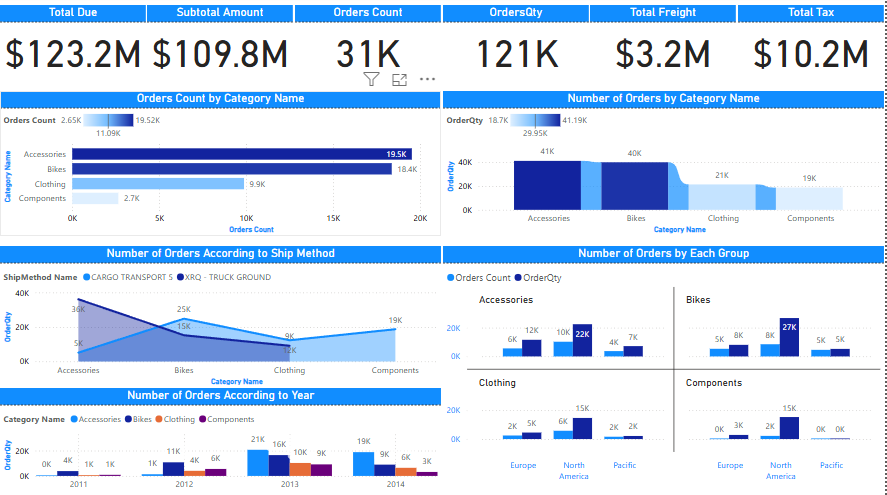

What the dashboard file says about the page in this screenshot:
{"tool":"powerbi","page":{"name":"Sales","canvas":[1280,720],"ordinal":0},"visuals":[{"type":"card","title":"Total Due","fields":{"Values":["Dax Measures.Total Due"]},"box":[3.9,12.6,210.1,100.2],"z":0},{"type":"card","title":"Subtotal Amount","fields":{"Values":["Dax Measures.SubTotal Amount"]},"box":[216.5,12.6,210.1,100.2],"z":1000},{"type":"card","title":"Total Freight","fields":{"Values":["Dax Measures.Total Freight"]},"box":[854.4,12.6,210.1,100.2],"z":2000},{"type":"card","title":"Total Tax","fields":{"Values":["Dax Measures.Total Tax"]},"box":[1067,12.6,210.1,100.2],"z":3000},{"type":"card","title":"OrdersQty","fields":{"Values":["Dax Measures.Order Details"]},"box":[641.8,12.6,210.1,100.2],"z":4000},{"type":"card","title":"Orders Count","fields":{"Values":["Dax Measures.Orders Count"]},"box":[429.1,12.6,210.1,100.2],"z":5000},{"type":"clusteredBarChart","fields":{"Category":["Product Category.Category Name"],"Y":["Dax Measures.Orders Count"]},"box":[3.9,137.1,635.1,209.1],"z":6000},{"type":"columnChart","title":"Number of Orders by Category Name","fields":{"Category":["Product Category.Category Name"],"Y":["Dax Measures.OrderQty"]},"box":[641.9,137.1,635.1,209.1],"z":7000},{"type":"areaChart","title":"Number of Orders According to Ship Method","fields":{"Category":["Product Category.Category Name"],"Series":["Ship Methods.ShipMethod Name"],"Y":["Dax Measures.OrderQty"]},"box":[3.9,359.9,635.1,204.3],"z":8000},{"type":"clusteredColumnChart","title":"Number of Orders by Each Group","fields":{"Category":["SalesTerritories.Group"],"Y":["Dax Measures.Orders Count","Dax Measures.OrderQty"],"Rows":["Product Category.Category Name"]},"box":[641.9,359.9,635.1,347.2],"z":9000},{"type":"lineClusteredColumnComboChart","title":"Number of Orders According to Year","fields":{"Category":["Calendar.Date.Variation.Date Hierarchy.Year"],"Y":["Dax Measures.OrderQty"],"Series":["Product Category.Category Name"]},"box":[3.9,564.1,635.1,155.6],"z":9001}]}

Visuals, with their boxes in screenshot pixels (x1, y1, x2, y2), scaled from the page's 1280x720 canvas onto the 887x495 screenshot:
"Total Due" card: [3,9,148,78]
"Subtotal Amount" card: [150,9,296,78]
"Total Freight" card: [592,9,738,78]
"Total Tax" card: [739,9,885,78]
"OrdersQty" card: [445,9,590,78]
"Orders Count" card: [297,9,443,78]
clusteredBarChart - Product Category.Category Name x Dax Measures.Orders Count: [3,94,443,238]
"Number of Orders by Category Name" columnChart: [445,94,885,238]
"Number of Orders According to Ship Method" areaChart: [3,247,443,388]
"Number of Orders by Each Group" clusteredColumnChart: [445,247,885,486]
"Number of Orders According to Year" lineClusteredColumnComboChart: [3,388,443,494]
